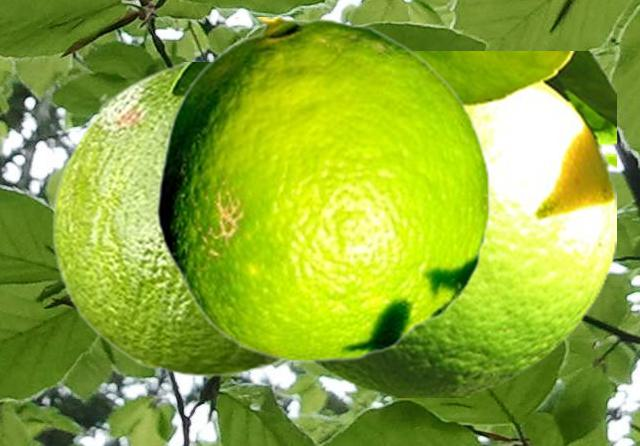dalandan: (156, 17, 490, 362), (308, 51, 615, 396), (51, 62, 284, 376)
